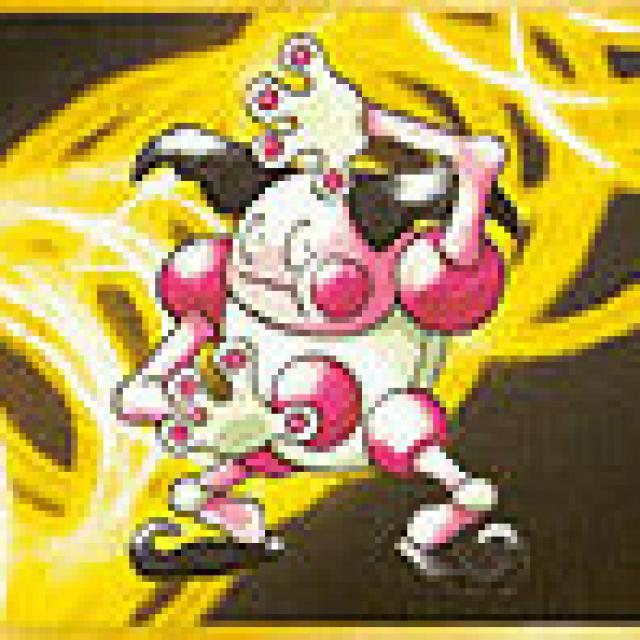MrMime: (132, 68, 524, 572)
